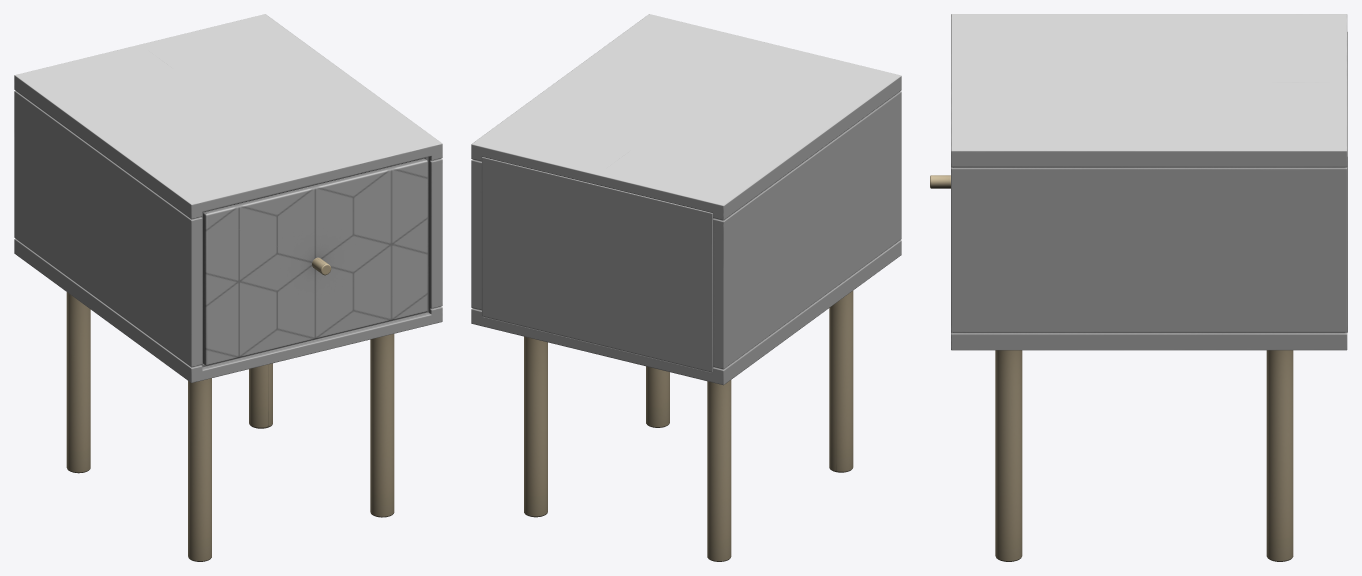
The model's file is Bedside.fbx.
3 renders of one model, left to right at view 1: azimuth 30°, elevation 25°; view 2: azimuth 150°, elevation 25°; view 3: azimuth 270°, elevation 25°, orthographic. The views are drawn at different scales.
Visible parts, largest first — view 1: GREY001, GREY_PATTERN001, BRASS001; view 2: GREY001, BRASS001; view 3: GREY001, BRASS001.
Part boxes in pixels (x1=…): GREY001: x1=14, y1=14, x2=442, y2=382; GREY_PATTERN001: x1=203, y1=158, x2=427, y2=365; BRASS001: x1=66, y1=257, x2=394, y2=561; GREY001: x1=471, y1=14, x2=901, y2=385; BRASS001: x1=524, y1=291, x2=853, y2=561; GREY001: x1=951, y1=14, x2=1347, y2=350; BRASS001: x1=930, y1=175, x2=1293, y2=561.
Size of the model in its own units: 3600 by 5200 by 4635.
